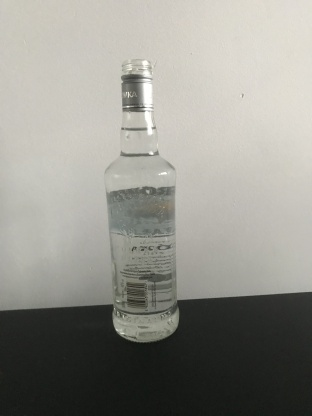nakretka: (119, 57, 155, 113)
